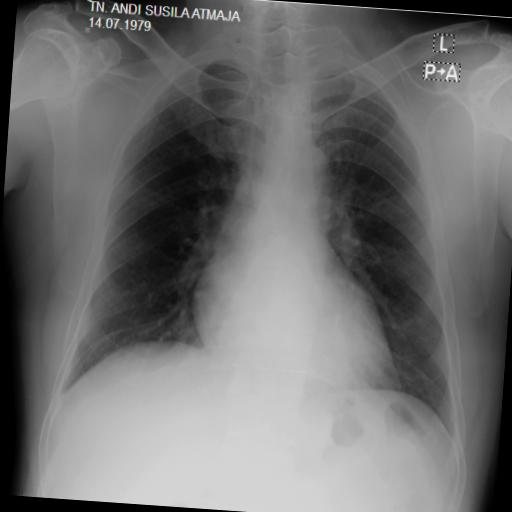kardiomegali: (51, 32, 485, 450)
